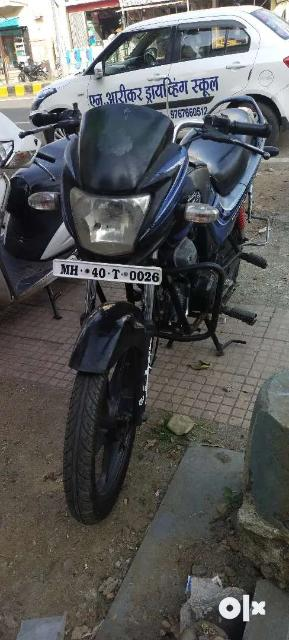Indian_Number_Plate: (52, 259, 161, 285)
